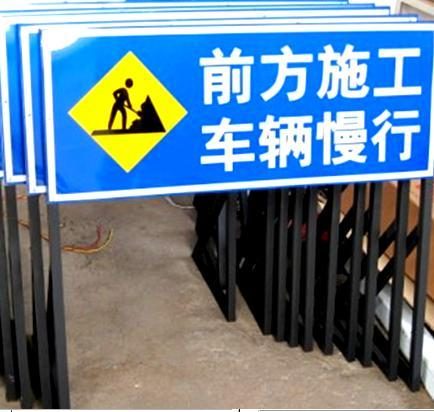sign: (40, 25, 430, 185)
